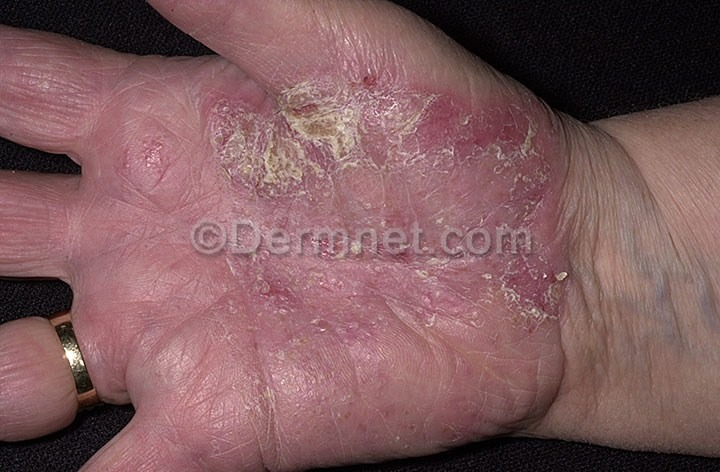Psoriasis: (217, 67, 586, 387)
